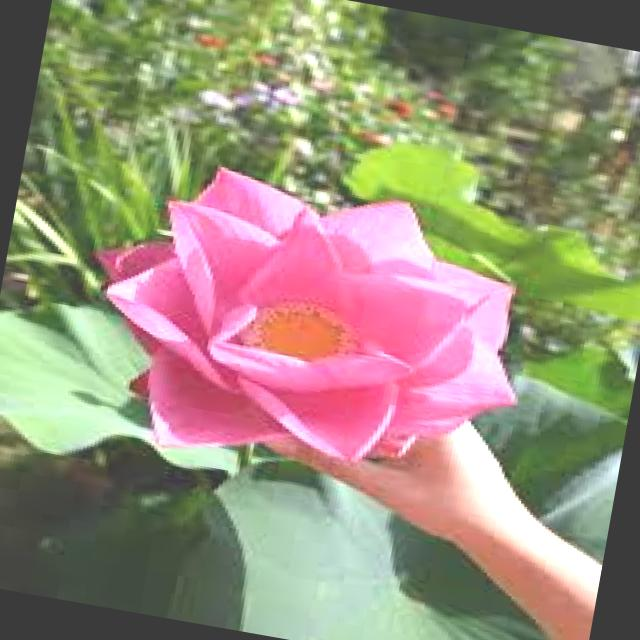lotus: (70, 144, 545, 502)
